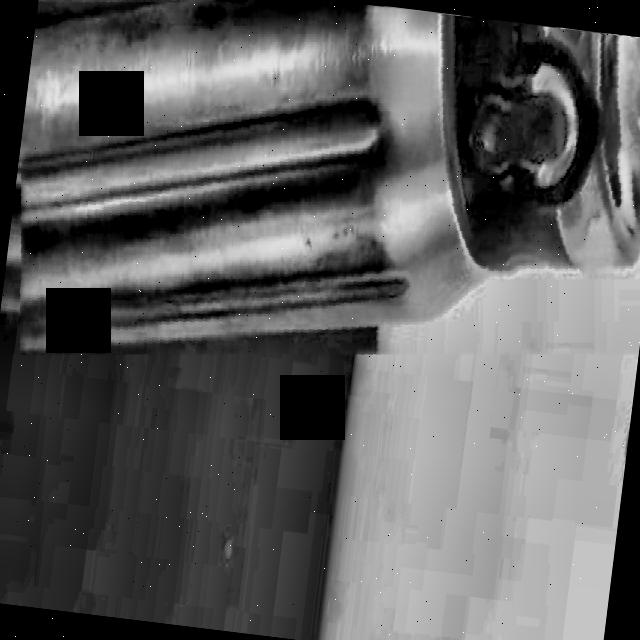bottle: (18, 1, 640, 354)
